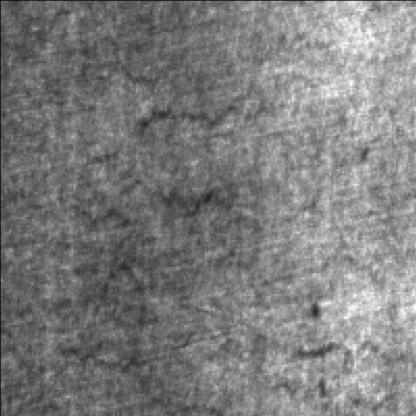crazing: (50, 98, 239, 231), (54, 256, 212, 412)
